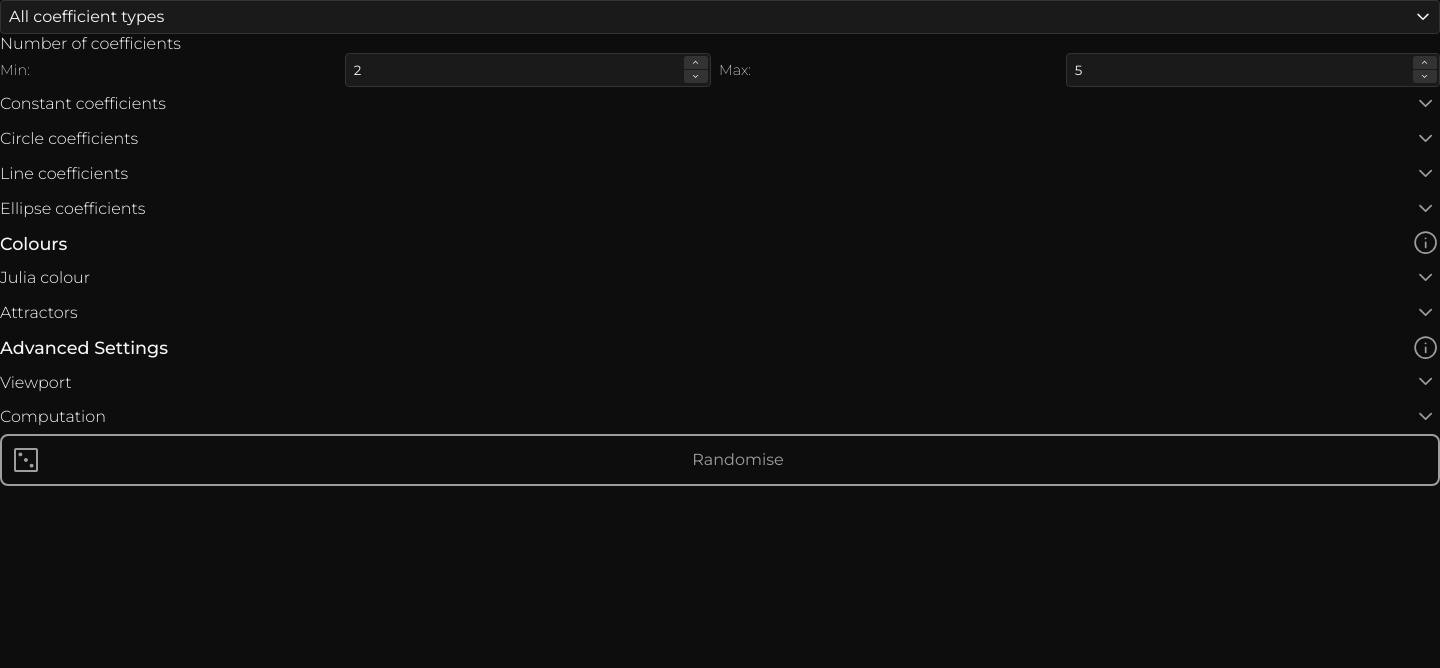
Test: Render › renders the advanced settings section correctly
The width and height of the screenshot is (1440, 668).
Click the button named "Show" in the row of "Viewport": (1424, 382) [1408,365,1439,399]
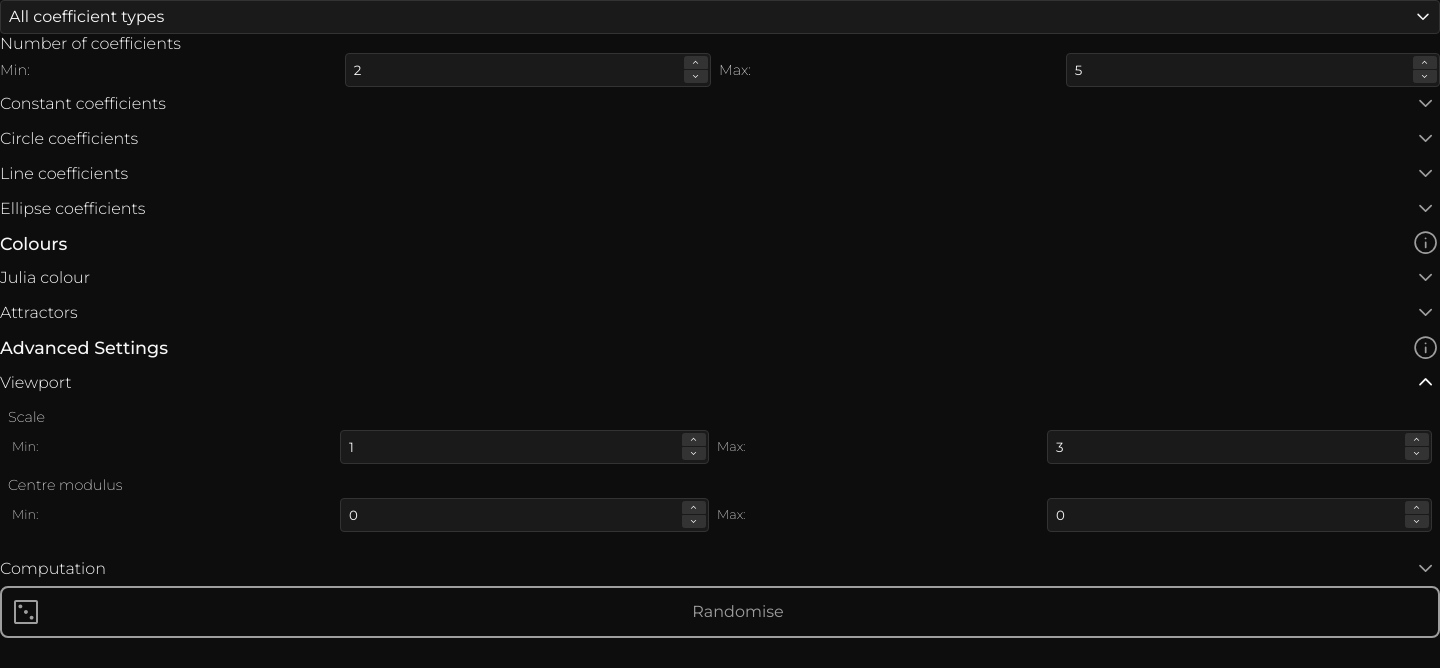
Click the button named "Show" in the row of "Computation": (1424, 569) [1408,552,1439,586]
(page scrolled)
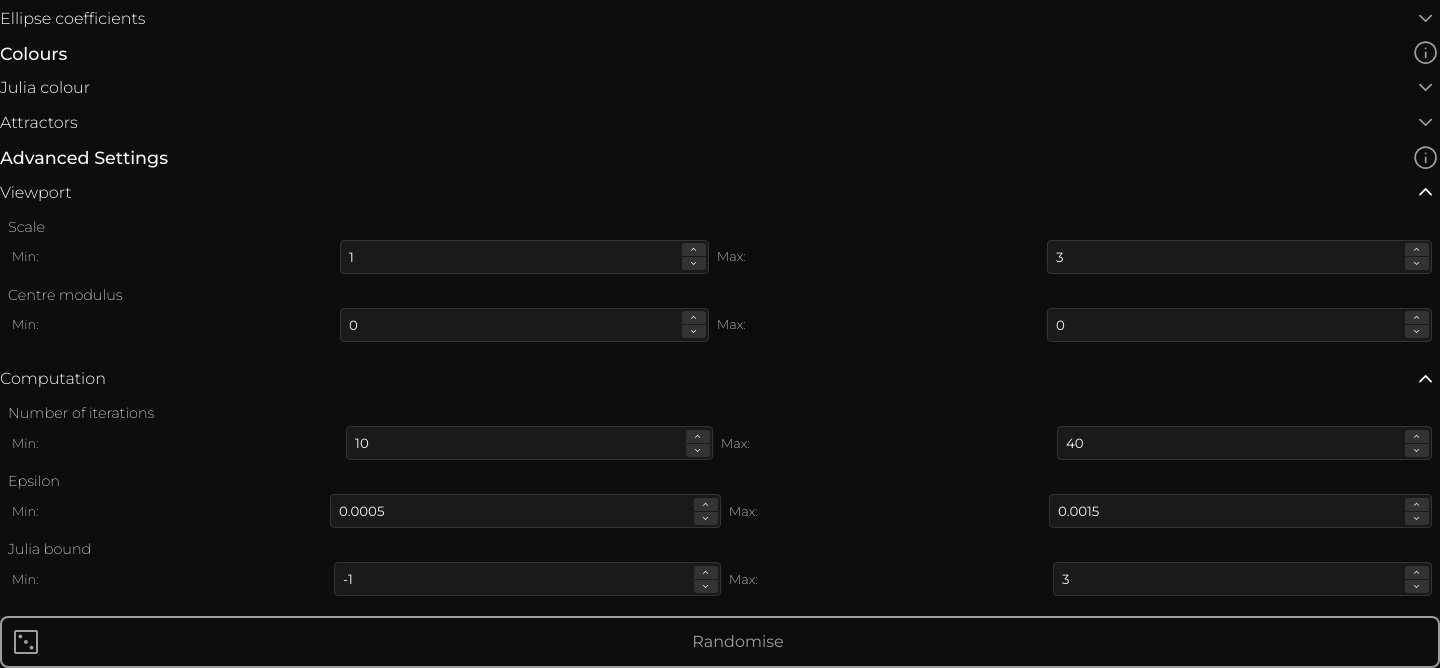
Now the heading "Scale" is shown, box [8,218,45,236]
Now the heading "Centre modulus" is shown, box [8,286,123,304]
Now the heading "Number of iterations" is shown, box [8,404,154,422]
